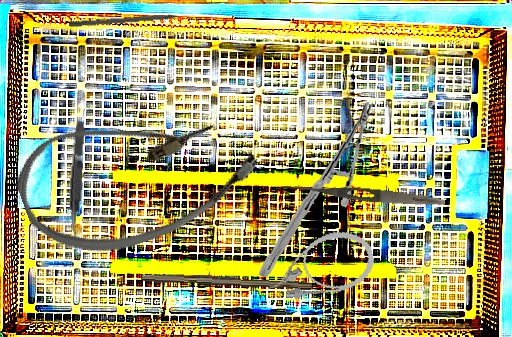Cannula: (5, 74, 269, 277), (258, 224, 380, 309)
Dressing Forceps: (282, 180, 446, 210)
Needle Holder: (258, 96, 375, 283)
Pusher: (68, 12, 196, 29)
Scalpel Handle: (140, 271, 313, 290)
Tissue Forceps: (64, 121, 89, 235)
